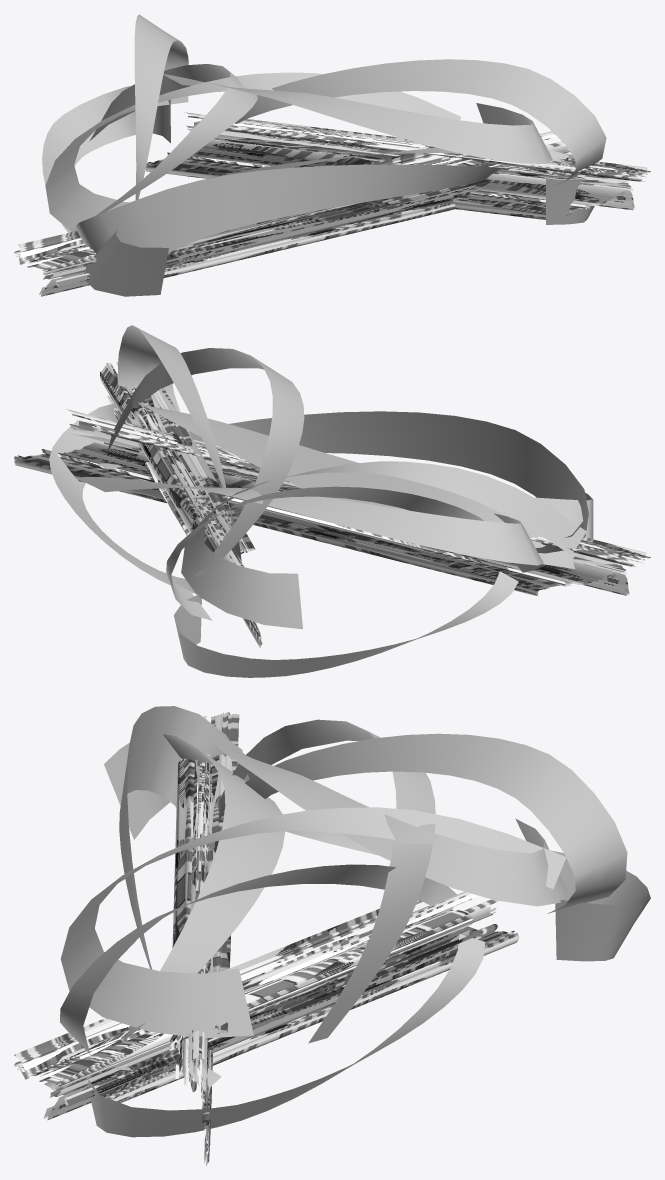
File: FxR3LuxiyaAttack11.fbx
3 renders of one model, top to bottom at view 1: azimuth 30°, elevation 25°; view 2: azimuth 150°, elevation 25°; view 3: azimuth 270°, elevation 25°, orthographic. The views are drawn at different scales.
Parts seen in each view (by area): view 1: canying, Piaodai01 (1), Piaodai03, Piaodai02, Piaodai02 (1), Piaodai02 (2), Piaodai01 (2), Piaodai03 (1), Piaodai01 (3), Piaodai01; view 2: canying, Piaodai01 (1), Piaodai02 (2), Piaodai02 (1), Piaodai01 (2), Piaodai02, Piaodai01 (3), Piaodai03, Piaodai03 (1), Piaodai01; view 3: canying, Piaodai02, Piaodai03 (1), Piaodai01 (2), Piaodai02 (2), Piaodai02 (1), Piaodai01, Piaodai01 (1), Piaodai03, Piaodai01 (3).
Part boxes in pixels (left/top/right/bottom): canying: left=14, top=112, right=650, bottom=296; Piaodai01 (1): left=75, top=164, right=510, bottom=253; Piaodai03: left=235, top=59, right=606, bottom=189; Piaodai02: left=163, top=74, right=552, bottom=163; Piaodai02 (1): left=45, top=72, right=461, bottom=250; Piaodai02 (2): left=70, top=64, right=257, bottom=232; Piaodai01 (2): left=78, top=148, right=569, bottom=296; Piaodai03 (1): left=134, top=14, right=188, bottom=199; Piaodai01 (3): left=42, top=86, right=170, bottom=232; Piaodai01: left=546, top=153, right=598, bottom=224; canying: left=14, top=362, right=650, bottom=647; Piaodai01 (1): left=98, top=411, right=588, bottom=572; Piaodai02 (2): left=181, top=461, right=586, bottom=629; Piaodai02 (1): left=75, top=477, right=543, bottom=565; Piaodai01 (2): left=127, top=397, right=593, bottom=568; Piaodai02: left=107, top=348, right=304, bottom=576; Piaodai01 (3): left=174, top=571, right=518, bottom=677; Piaodai03: left=117, top=325, right=241, bottom=560; Piaodai03 (1): left=166, top=486, right=484, bottom=620; Piaodai01: left=49, top=403, right=195, bottom=593; canying: left=14, top=712, right=519, bottom=1165; Piaodai02: left=60, top=807, right=566, bottom=1038; Piaodai03 (1): left=245, top=733, right=627, bottom=913; Piaodai01 (2): left=104, top=734, right=284, bottom=1042; Piaodai02 (2): left=209, top=729, right=567, bottom=906; Piaodai02 (1): left=219, top=719, right=435, bottom=1043; Piaodai01: left=87, top=934, right=485, bottom=1137; Piaodai01 (1): left=119, top=706, right=249, bottom=1090; Piaodai03: left=60, top=864, right=456, bottom=1070; Piaodai01 (3): left=286, top=830, right=650, bottom=961.
Bounding box in the file's own units: 11.61 × 2.87 × 8.21.
